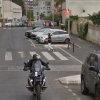Motorcycle: (19, 49, 53, 99)
